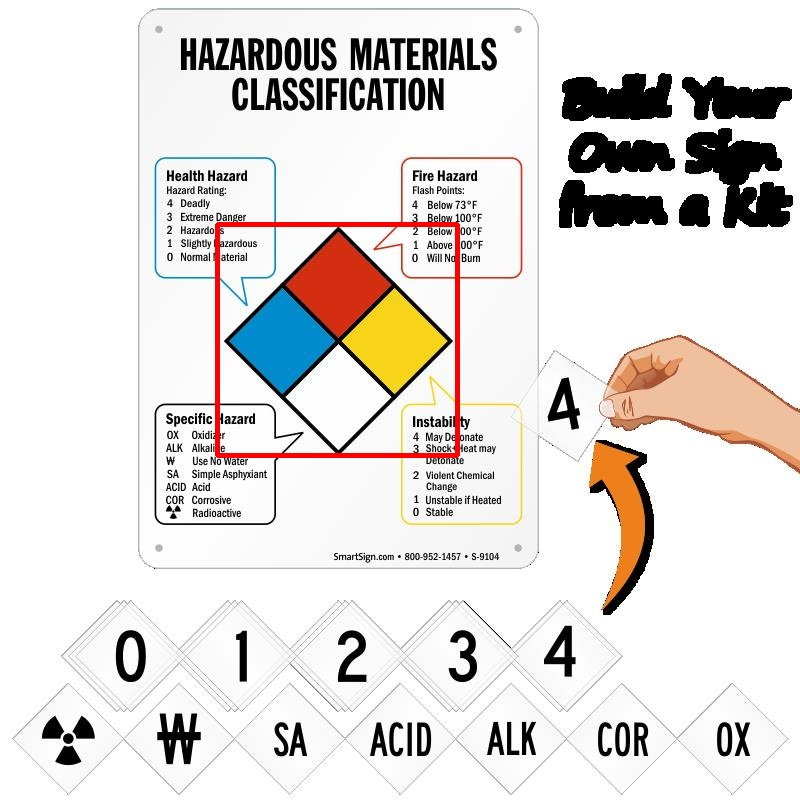nfpa: (217, 224, 457, 455)
